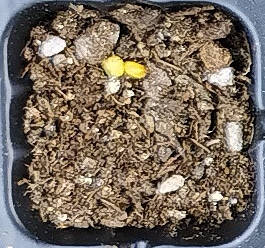pepper seed: (48, 21, 197, 100), (39, 16, 164, 95)
